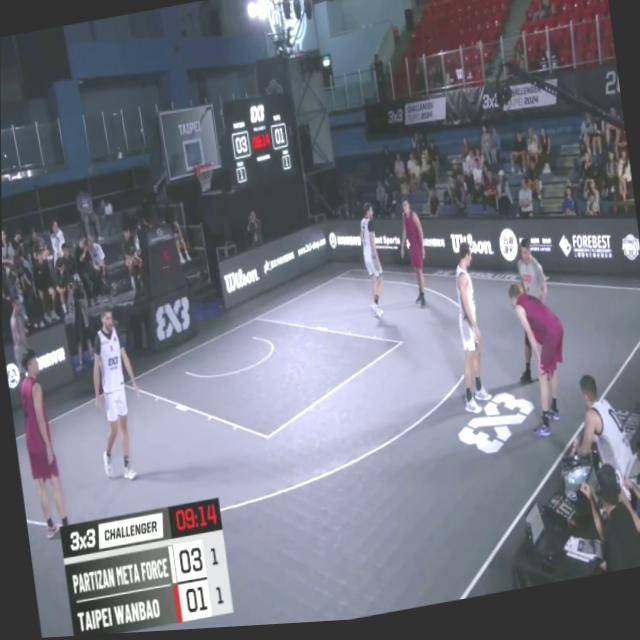ball: (509, 282, 528, 311)
hoop: (191, 161, 217, 197)
player: (82, 303, 149, 488), (505, 281, 575, 450), (13, 347, 69, 539), (445, 242, 494, 422), (393, 196, 430, 314), (354, 202, 388, 323)
